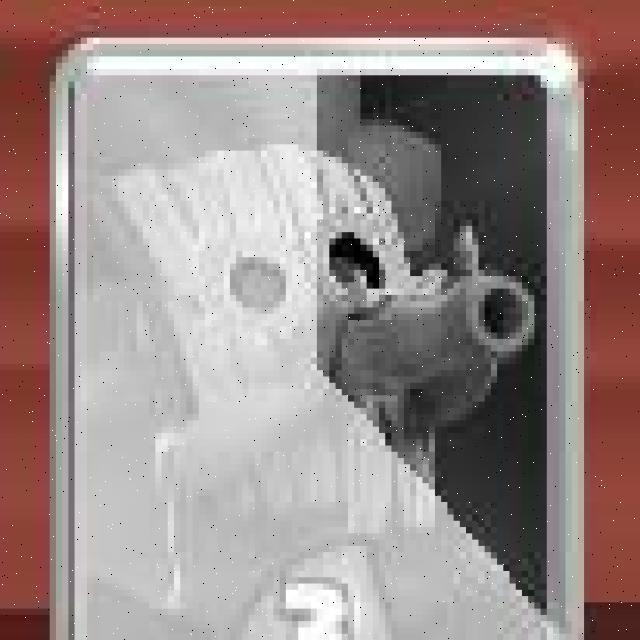Dart_Goblin: (40, 27, 590, 640)
